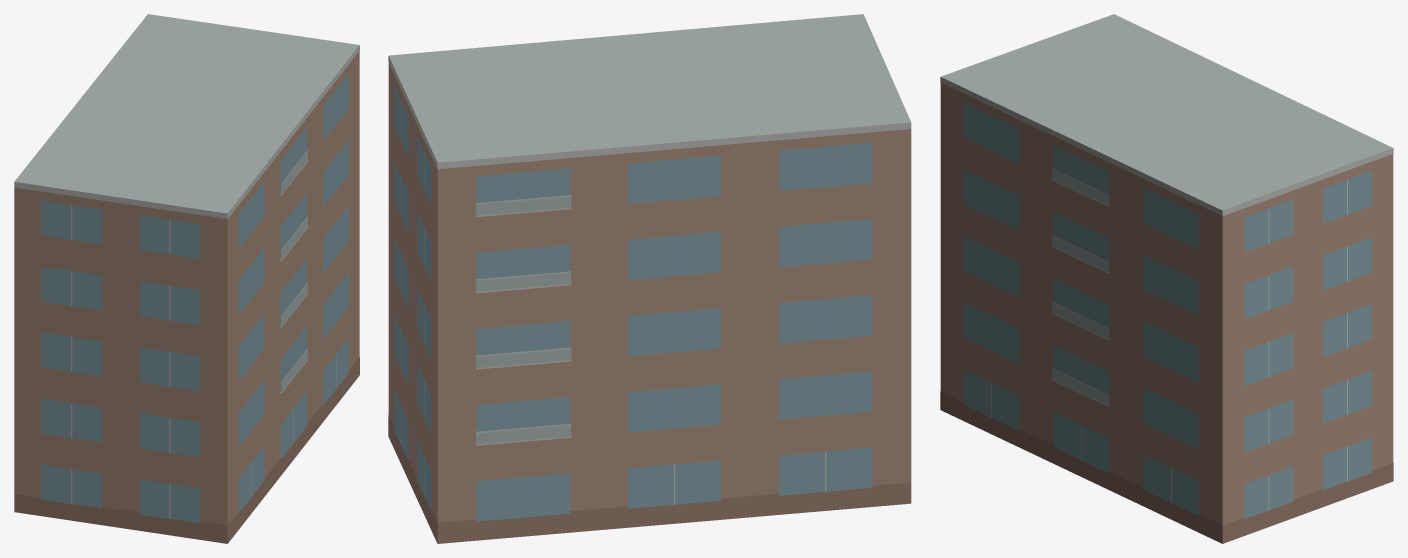
Rendered from survey-upis-32885929.glb.
The picture shows the model from 3 angles, left to right: view 1: azimuth 30°, elevation 25°; view 2: azimuth 150°, elevation 25°; view 3: azimuth 270°, elevation 25°; orthographic projection. The views are drawn at different scales.
Parts seen in each view (by area): view 1: survey-upis-32885929.tmp; view 2: survey-upis-32885929.tmp; view 3: survey-upis-32885929.tmp.
Part boxes in pixels (x1,y1,x2,y2): survey-upis-32885929.tmp: (14, 14, 359, 543); survey-upis-32885929.tmp: (388, 14, 911, 543); survey-upis-32885929.tmp: (940, 14, 1393, 543).
Bounding box in the file's own units: 18.1 × 14.3 × 17.62.
